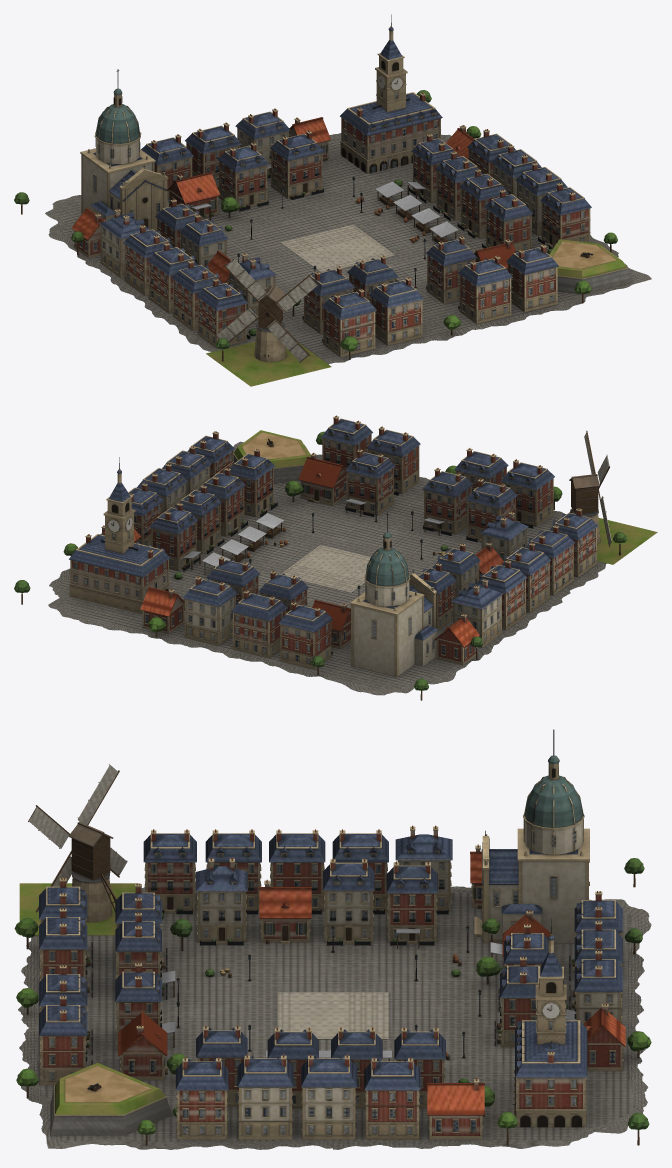
The model's file is gunpowder-town-big-a-europe.glb.
The picture shows the model from 3 angles, top to bottom: view 1: azimuth 30°, elevation 25°; view 2: azimuth 150°, elevation 25°; view 3: azimuth 270°, elevation 25°; orthographic projection. The views are drawn at different scales.
Visible parts, largest first — view 1: LOD0; view 2: LOD0; view 3: LOD0.
Boxes of the visible parts, left/top/right/bottom form: LOD0: left=14, top=14, right=651, bottom=386; LOD0: left=14, top=415, right=657, bottom=700; LOD0: left=14, top=729, right=651, bottom=1149.
Size of what is drawn, in the model's own units: 8.05 by 2.8 by 8.12.
3 materials, 3 textured.
